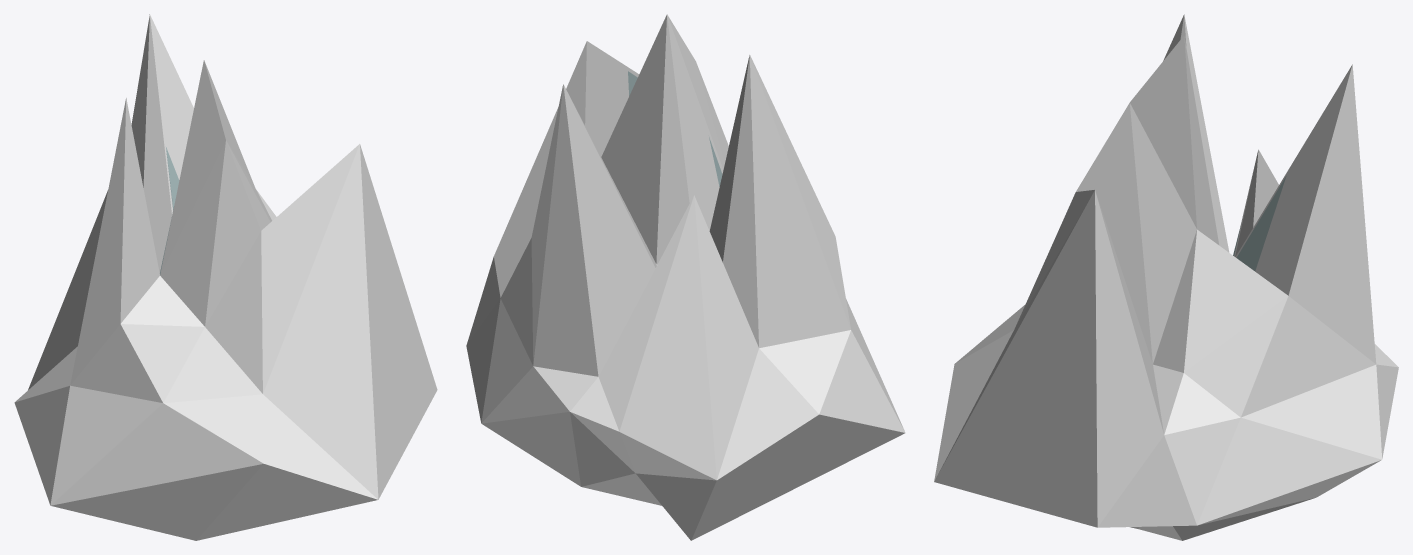
Rendered from resource__surrounding__rock-3.fbx.
3 renders of one model, left to right at view 1: azimuth 30°, elevation 25°; view 2: azimuth 150°, elevation 25°; view 3: azimuth 270°, elevation 25°, orthographic. The views are drawn at different scales.
Parts seen in each view (by area): view 1: Map_Surrounding_Rock_3; view 2: Map_Surrounding_Rock_3; view 3: Map_Surrounding_Rock_3.
Boxes of the visible parts, x1,y1,x2,y2 form: Map_Surrounding_Rock_3: [14, 14, 437, 540]; Map_Surrounding_Rock_3: [466, 14, 905, 540]; Map_Surrounding_Rock_3: [934, 14, 1398, 540].
Size of the model in its own units: 827 by 958 by 783.
